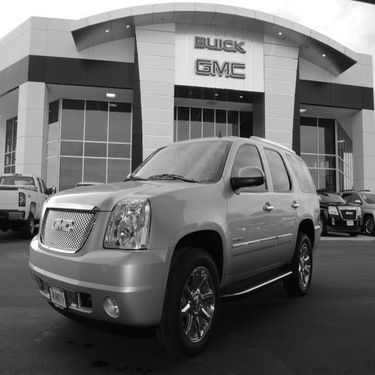car: (22, 125, 324, 363), (3, 169, 52, 239), (305, 180, 363, 235), (339, 180, 373, 238)
